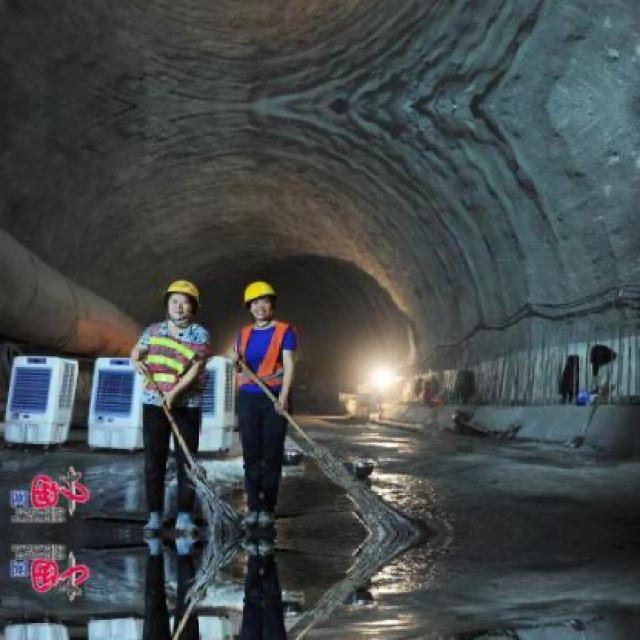helmet: (162, 274, 204, 326), (242, 277, 278, 324)
